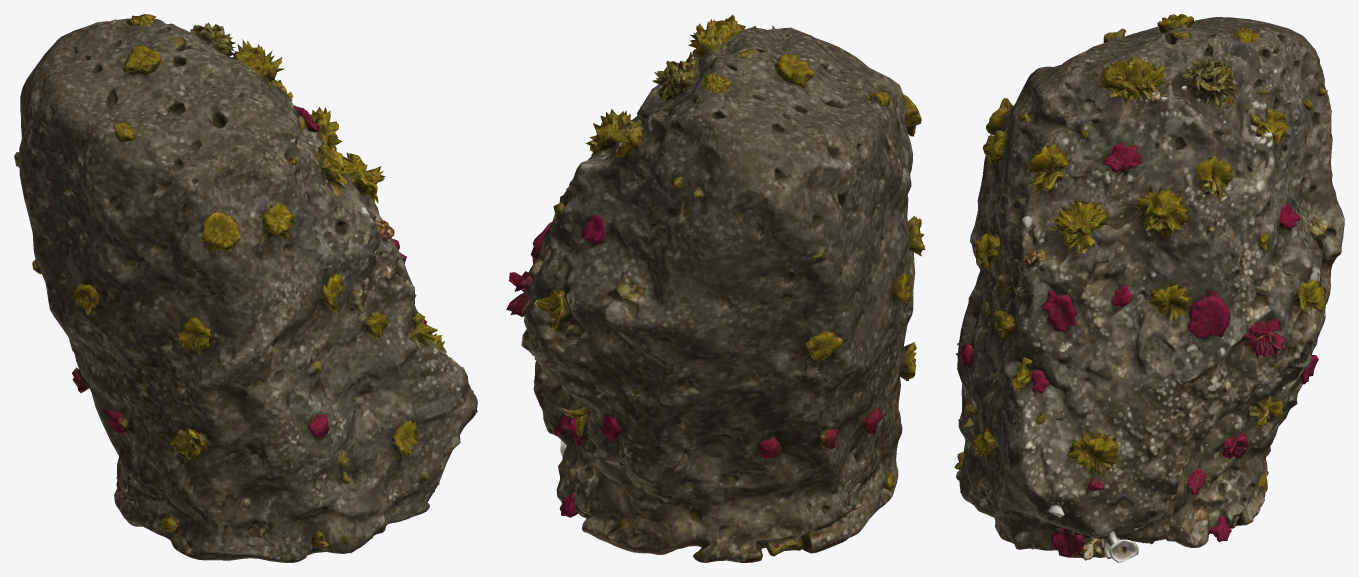
Rendered from rock_j.glb.
3 renders of one model, left to right at view 1: azimuth 30°, elevation 25°; view 2: azimuth 150°, elevation 25°; view 3: azimuth 270°, elevation 25°, orthographic. The views are drawn at different scales.
Parts seen in each view (by area): view 1: tripo_node_fc482967-6bf9-4ec2-84ac-5a33791aa8c5; view 2: tripo_node_fc482967-6bf9-4ec2-84ac-5a33791aa8c5; view 3: tripo_node_fc482967-6bf9-4ec2-84ac-5a33791aa8c5.
Boxes of the visible parts, x1,y1,x2,y2 form: tripo_node_fc482967-6bf9-4ec2-84ac-5a33791aa8c5: (14,14,477,562); tripo_node_fc482967-6bf9-4ec2-84ac-5a33791aa8c5: (506,14,925,562); tripo_node_fc482967-6bf9-4ec2-84ac-5a33791aa8c5: (954,14,1344,562).
Bounding box in the file's own units: 0.8086 × 1 × 0.8011.
1 material, 1 textured.
